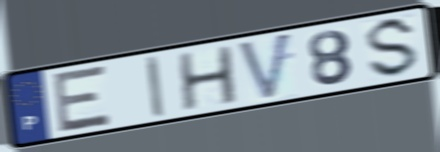8: (306, 28, 355, 88)
E: (52, 63, 114, 136)
H: (176, 43, 241, 114)
I: (143, 53, 167, 121)
S: (365, 14, 422, 80)
V: (235, 29, 294, 104)
